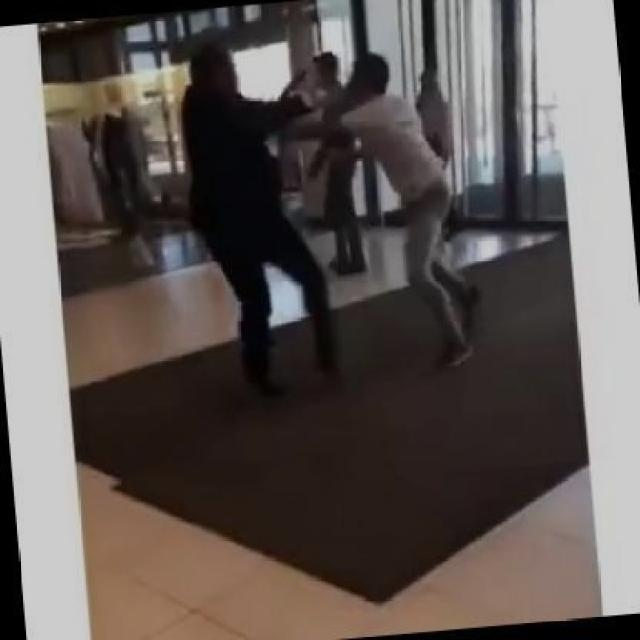fight: (148, 2, 523, 410)
